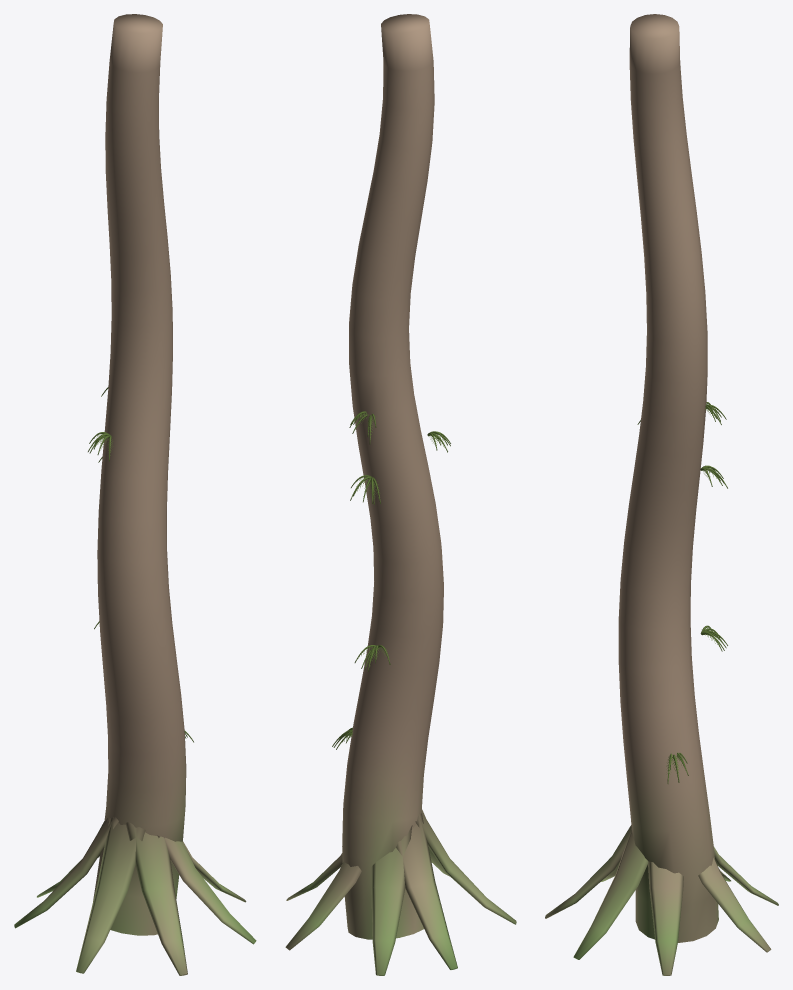
Rendered from tree.glb.
The picture shows the model from 3 angles, left to right: view 1: azimuth 30°, elevation 25°; view 2: azimuth 150°, elevation 25°; view 3: azimuth 270°, elevation 25°; orthographic projection.
Visible parts, largest first — view 1: tree; view 2: tree; view 3: tree.
Boxes of the visible parts, x1=… form: tree: x1=14, y1=14, x2=256, y2=975; tree: x1=285, y1=14, x2=516, y2=975; tree: x1=545, y1=14, x2=778, y2=975.
Bounding box in the file's own units: 6.04 × 26.21 × 6.18.
